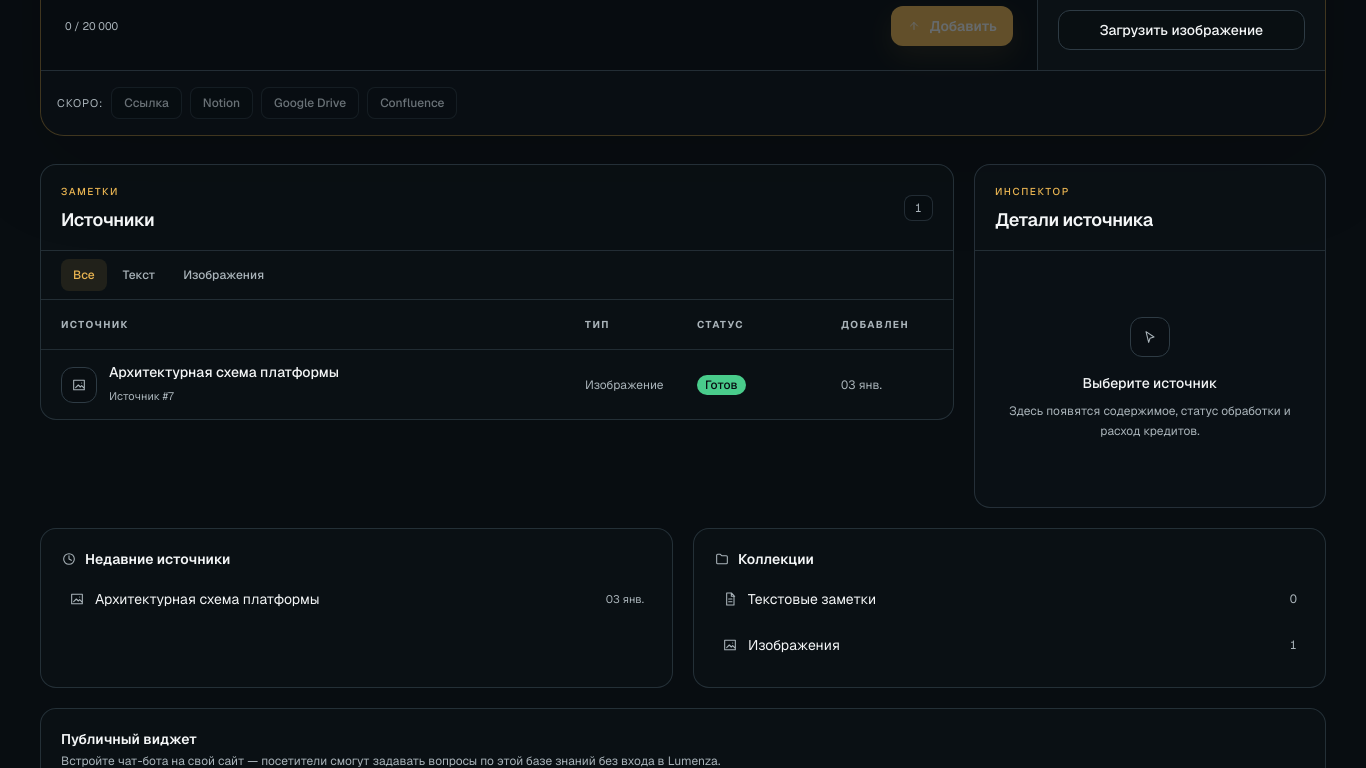
Test: KnowledgePage › opens a source in the integrated detail panel
(page scrolled)
Click the button with aria-label "Открыть источник 7" at point(79, 384), box [41,350,569,419]
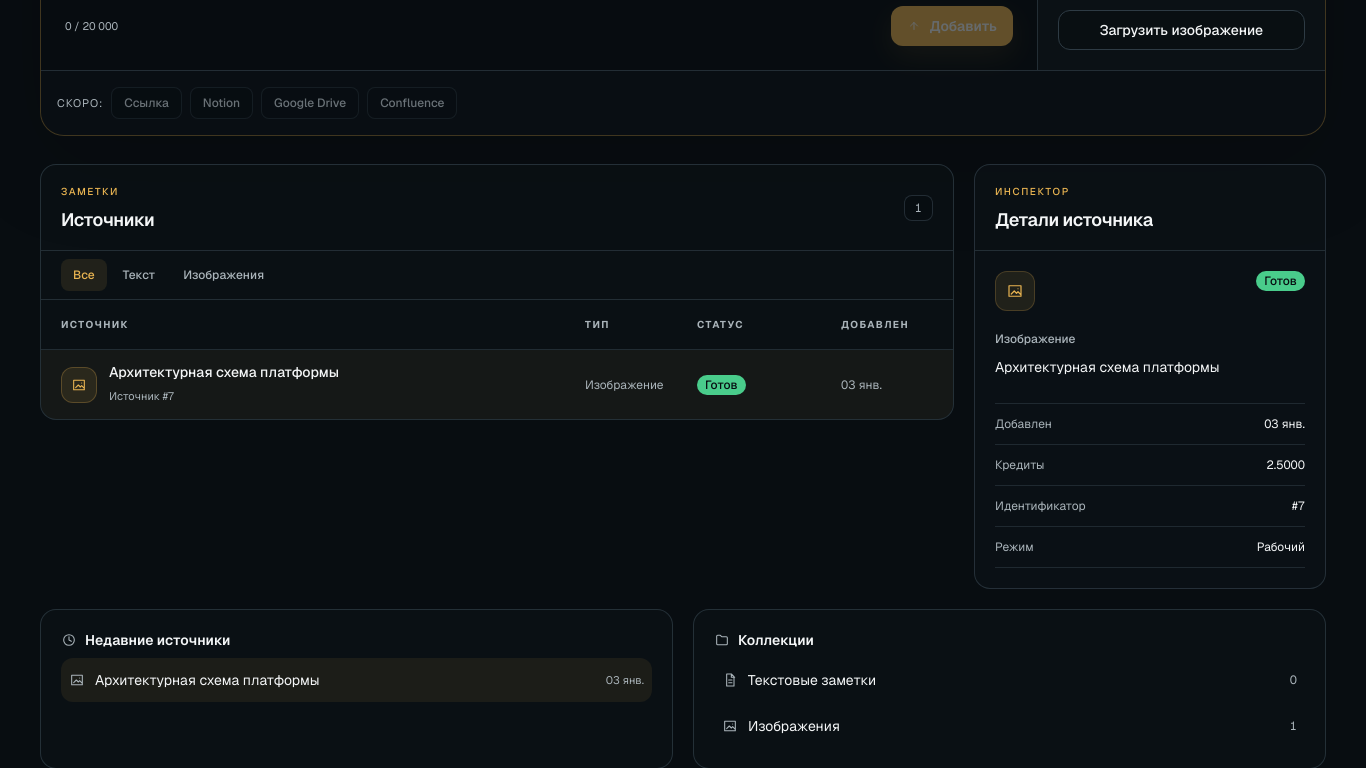
Result: the element "Детали источника" shows "Архитектурная схема платформы" at [995,358,1220,376]
Result: the element "Детали источника" shows "Изображение" at [995,331,1076,347]
Result: the element "Детали источника" shows "2.5000" at [1267,457,1305,473]
